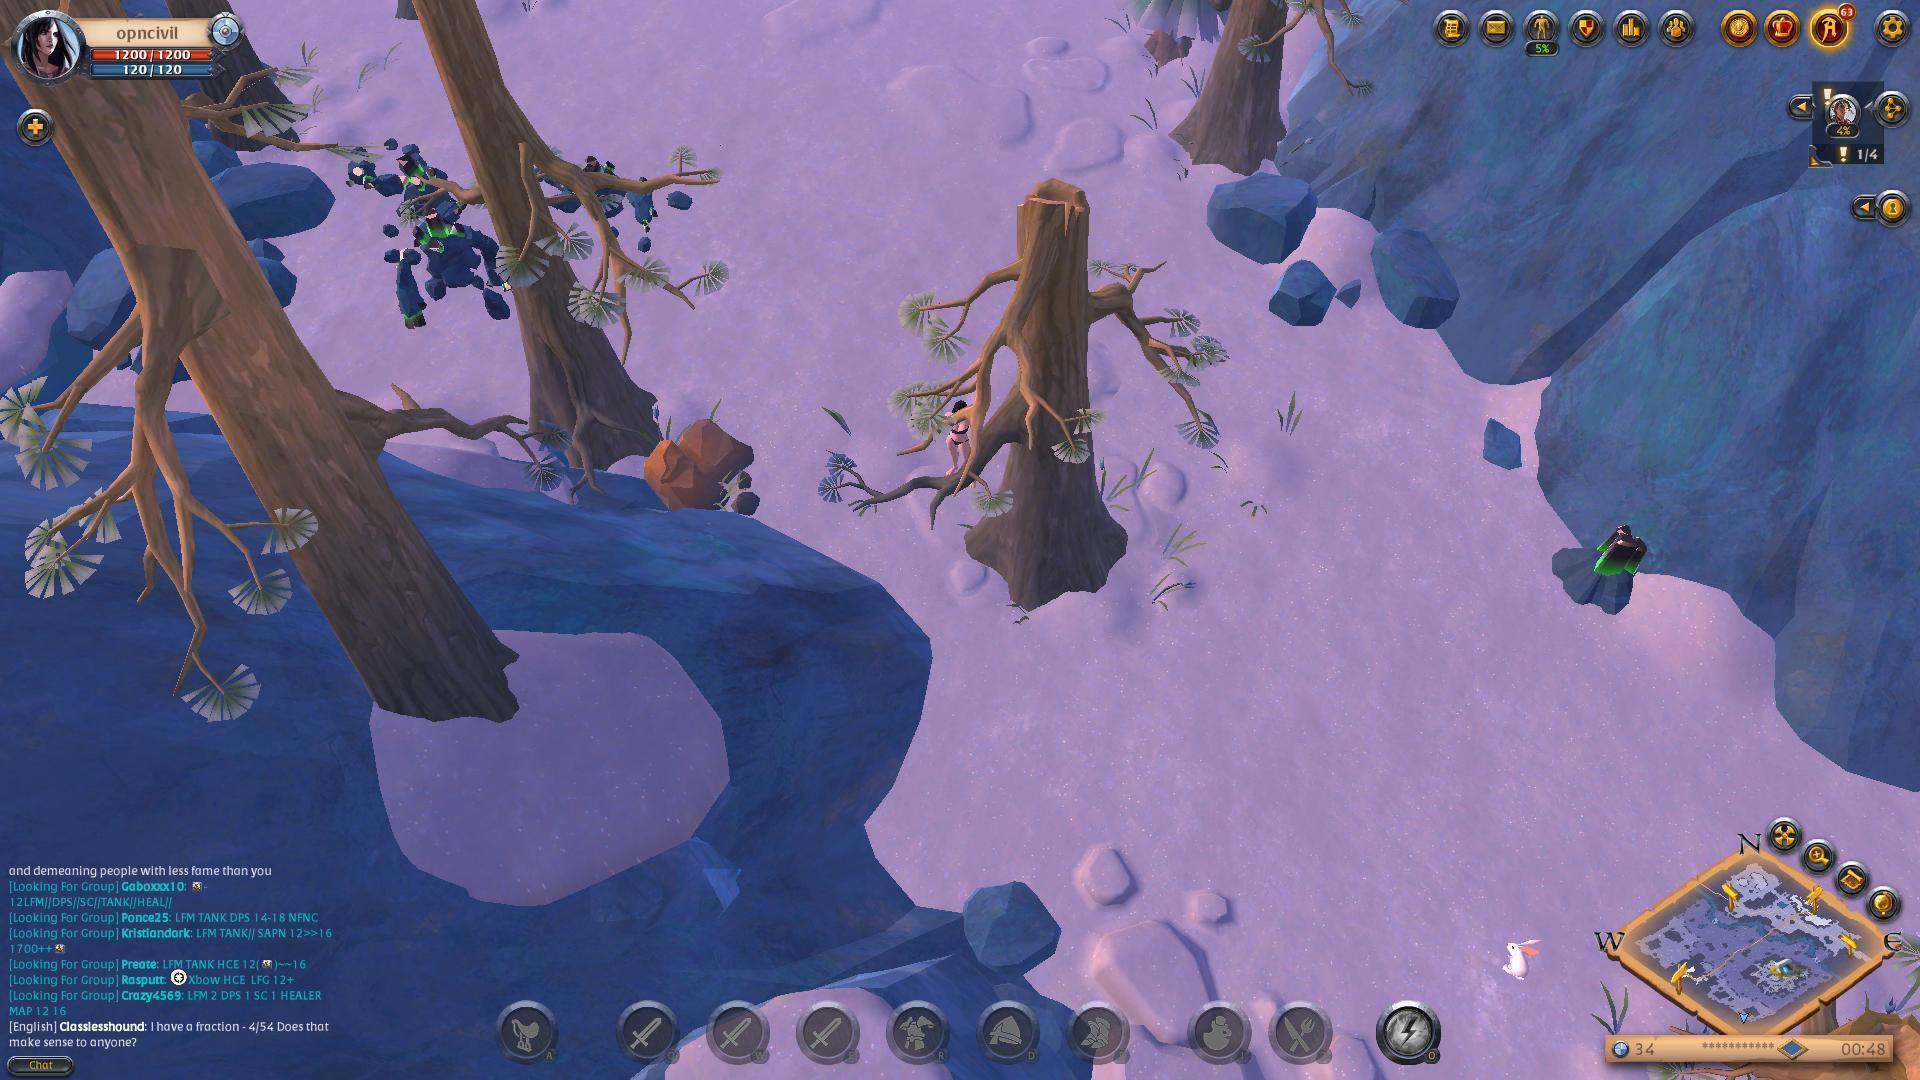limestone: (632, 421, 767, 510)
tin_ore: (1548, 522, 1679, 609)
